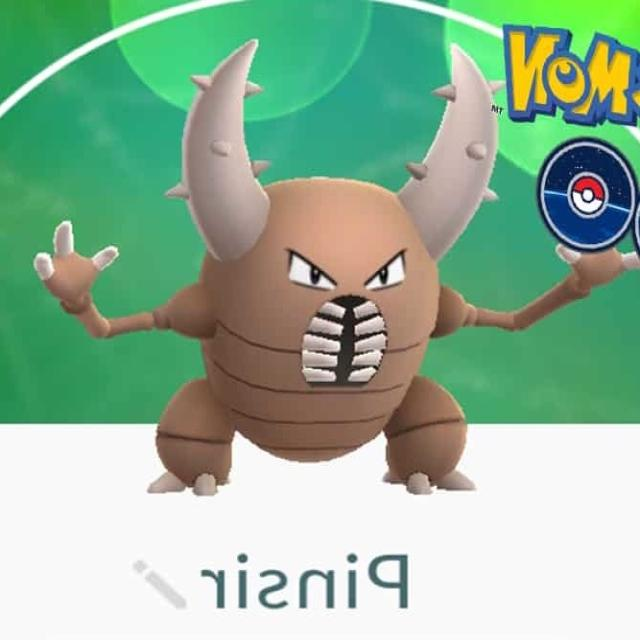Pinsir: (128, 44, 508, 516)
